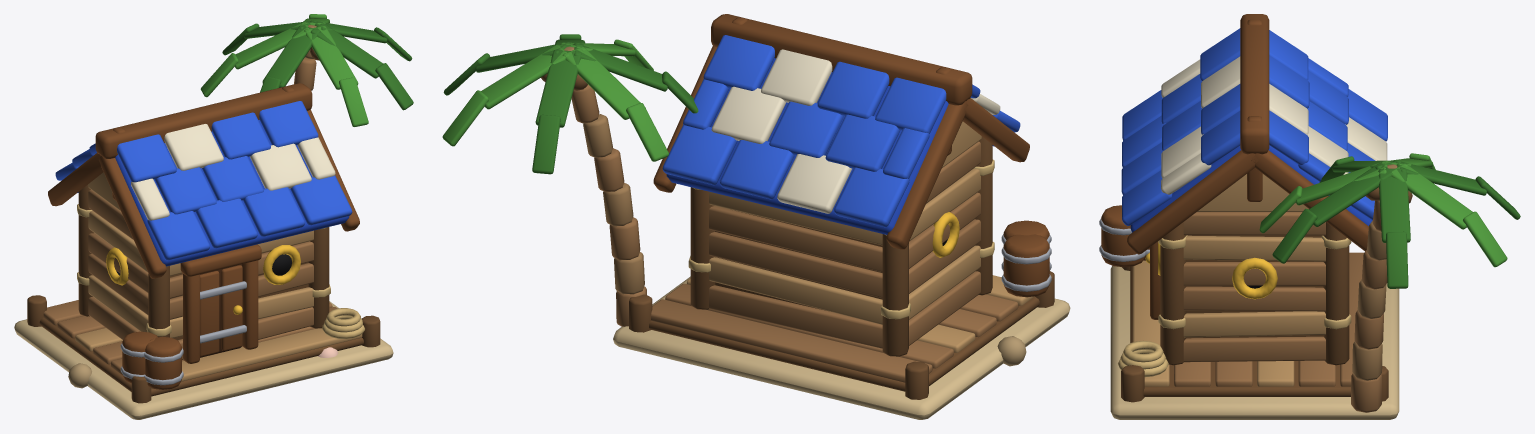
File: House.glb
3 views of the same model, side by side, from view 1: azimuth 30°, elevation 25°; view 2: azimuth 150°, elevation 25°; view 3: azimuth 270°, elevation 25° (orthographic). The views are drawn at different scales.
Parts seen in each view (by area): view 1: House; view 2: House; view 3: House.
Part boxes in pixels (x1,y1,x2,y2): House: [14, 14, 413, 419]; House: [442, 14, 1070, 419]; House: [1099, 14, 1520, 419].
Bounding box in the file's own units: 4.2 × 2.37 × 3.21.
